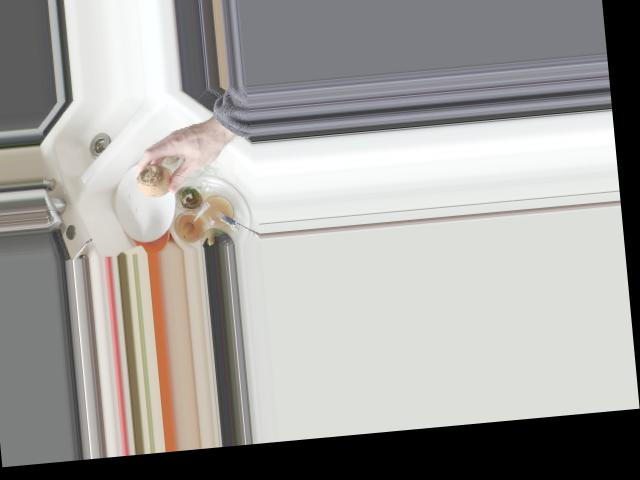sweet_potato: (133, 160, 181, 200)
